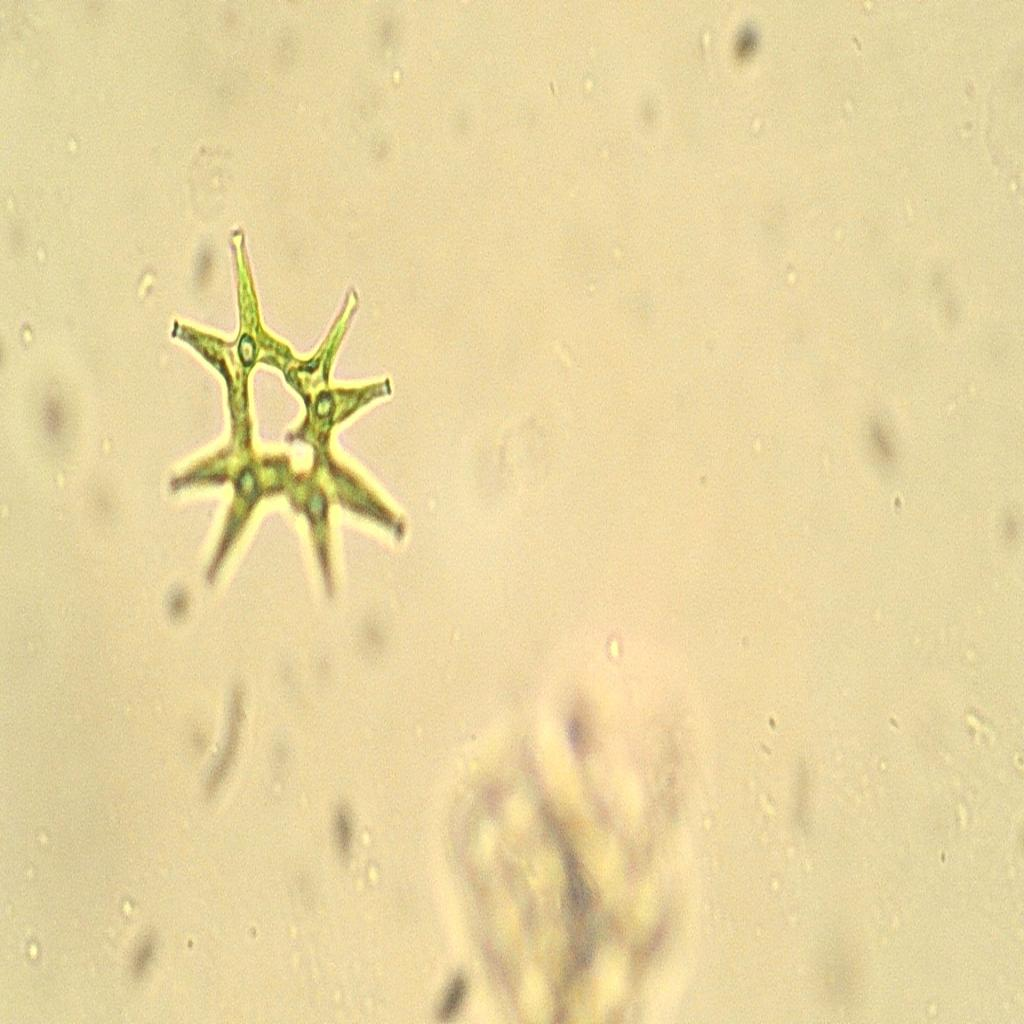Pediastrum_CF: (158, 188, 414, 666)
